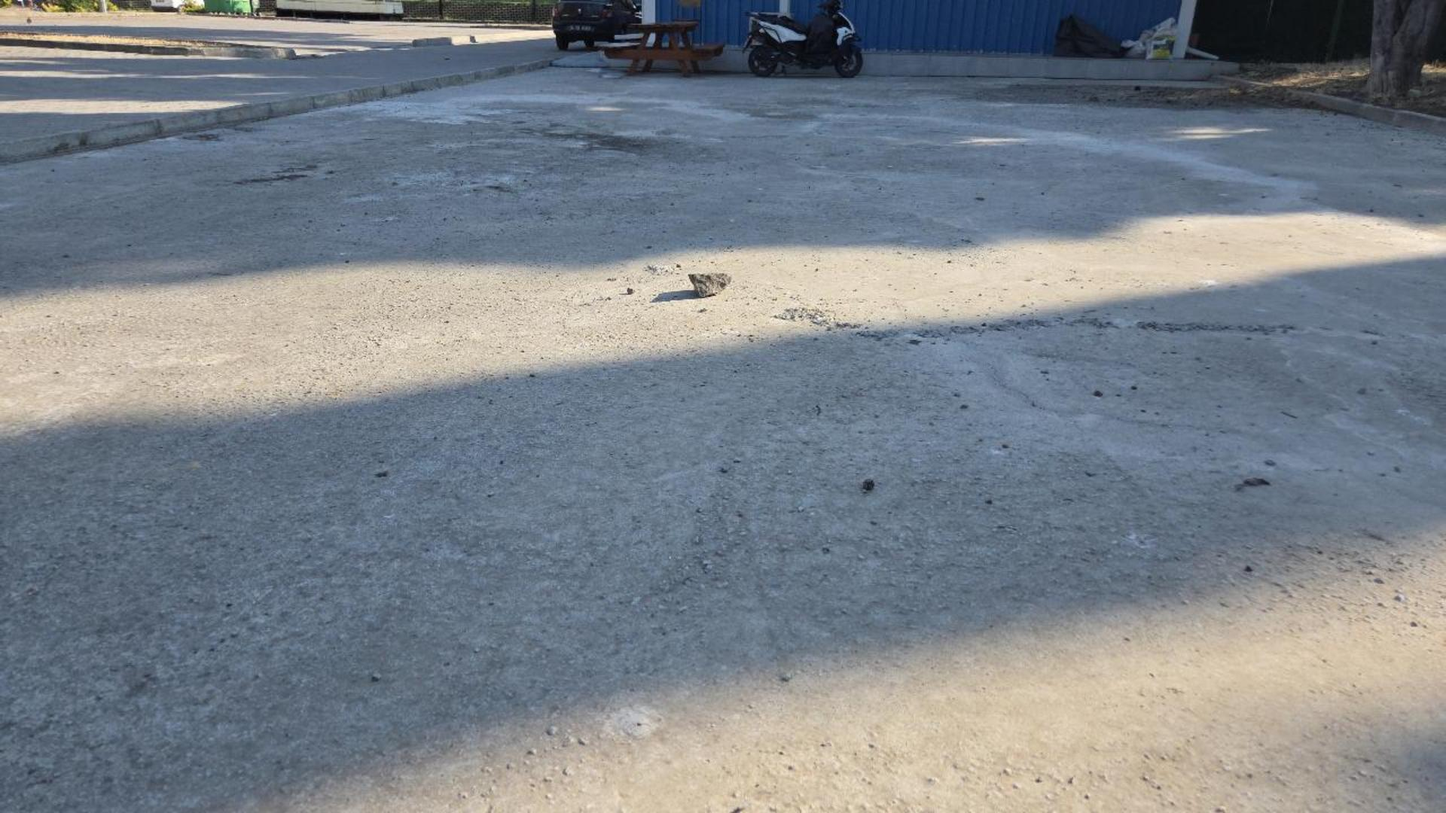rock: (689, 272, 731, 296)
